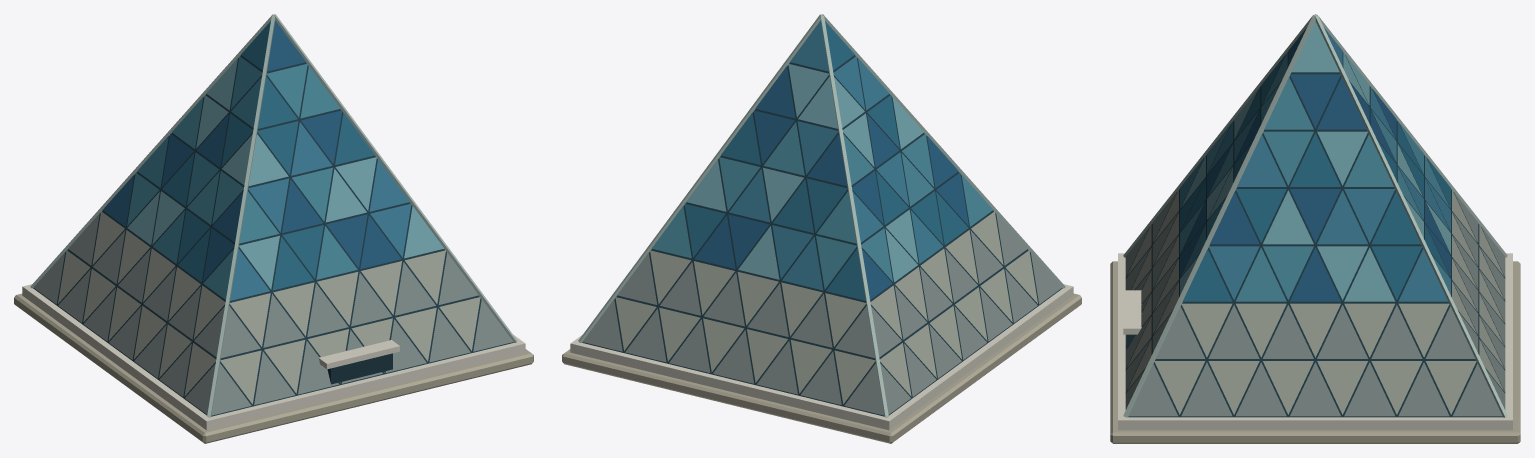
The model's file is peace-pyramid.glb.
3 renders of one model, left to right at view 1: azimuth 30°, elevation 25°; view 2: azimuth 150°, elevation 25°; view 3: azimuth 270°, elevation 25°, orthographic. The views are drawn at different scales.
Visible parts, largest first — view 1: peace-pyramid; view 2: peace-pyramid; view 3: peace-pyramid.
Boxes of the visible parts, bbox=[...] form: peace-pyramid: bbox=[14, 14, 533, 443]; peace-pyramid: bbox=[562, 14, 1081, 443]; peace-pyramid: bbox=[1110, 14, 1520, 443].
Bounding box in the file's own units: 3.8 × 3.51 × 3.8.
